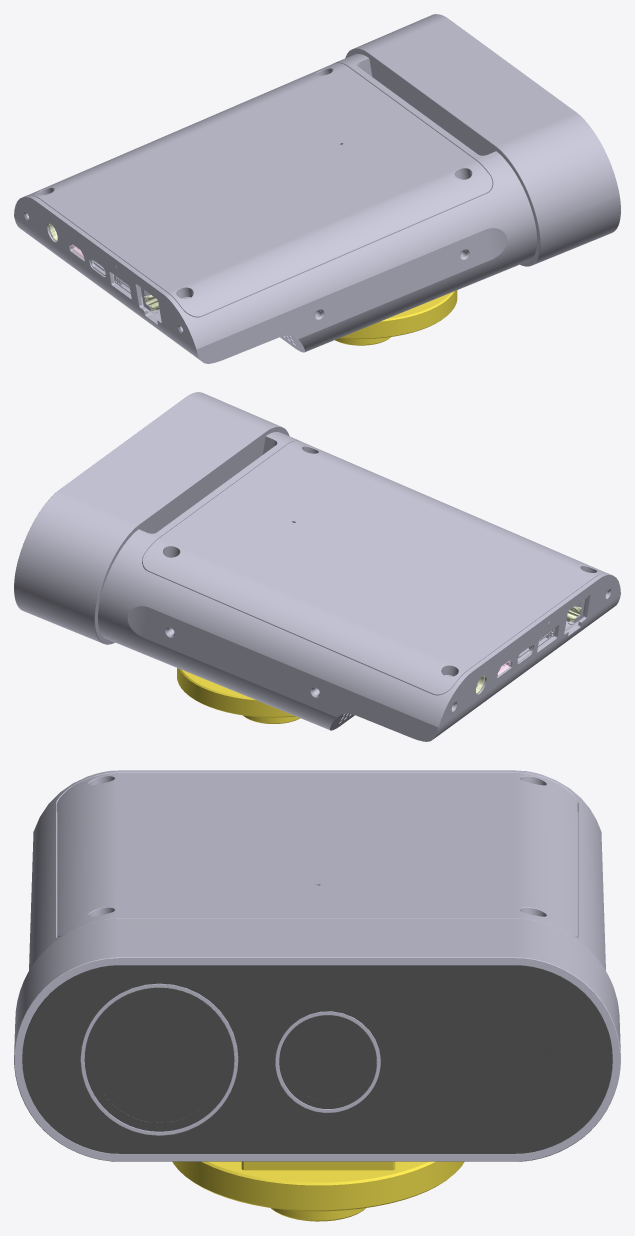
Rendered from OrbbecCameraAssembly.dae.
3 renders of one model, top to bottom at view 1: azimuth 30°, elevation 25°; view 2: azimuth 150°, elevation 25°; view 3: azimuth 270°, elevation 25°, orthographic. The views are drawn at different scales.
Visible parts, largest first — view 1: SoporteCamarasMontado_NORMAL_COLOR2; view 2: SoporteCamarasMontado_NORMAL_COLOR2; view 3: SoporteCamarasMontado_NORMAL_COLOR2.
Part boxes in pixels (box(x1,y1,x2,y2)): SoporteCamarasMontado_NORMAL_COLOR2: box(14, 14, 620, 363); SoporteCamarasMontado_NORMAL_COLOR2: box(14, 392, 620, 741); SoporteCamarasMontado_NORMAL_COLOR2: box(14, 770, 620, 1221).
Bounding box in the file's own units: 0.1476 × 0.1153 × 0.0748.
